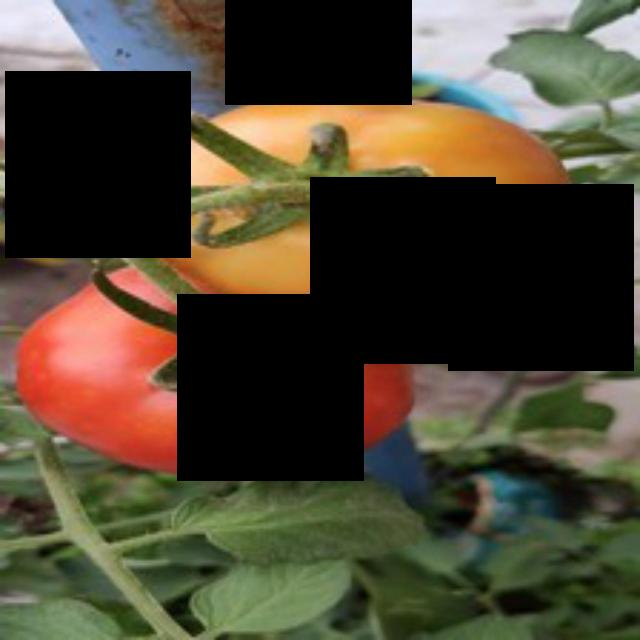tomato: (108, 89, 590, 335), (31, 260, 443, 483)
